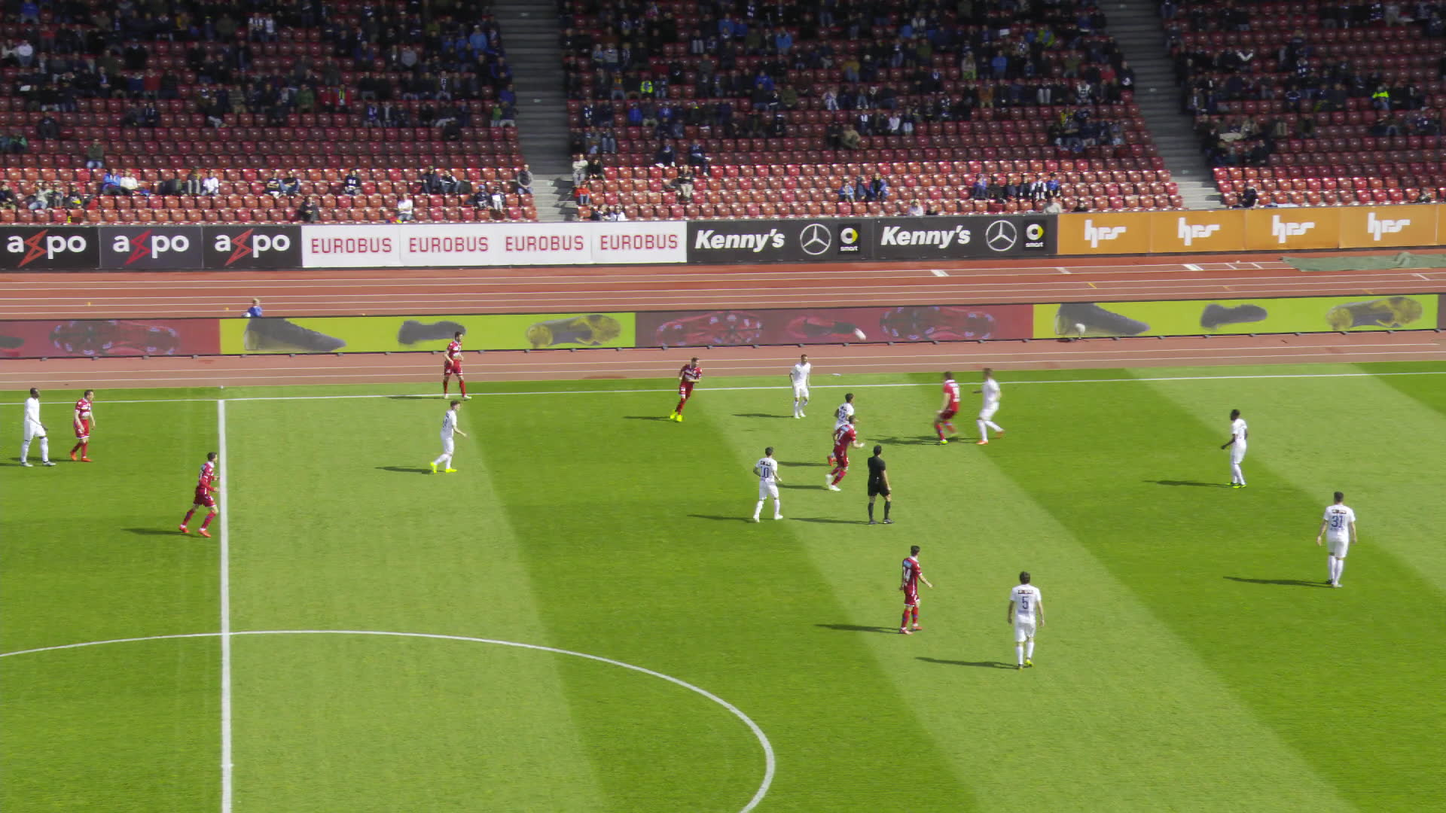ball: (809, 316, 819, 324)
player: (1008, 572, 1048, 671), (1318, 491, 1358, 588), (182, 451, 226, 538), (816, 413, 861, 492), (895, 544, 932, 635), (20, 386, 57, 467), (932, 372, 971, 444), (821, 395, 856, 464), (435, 400, 466, 476), (978, 366, 1008, 444), (69, 390, 101, 461), (753, 448, 783, 523), (1224, 409, 1252, 489), (672, 358, 705, 425), (442, 331, 471, 400), (789, 353, 815, 418)
referee: (866, 444, 895, 525)
